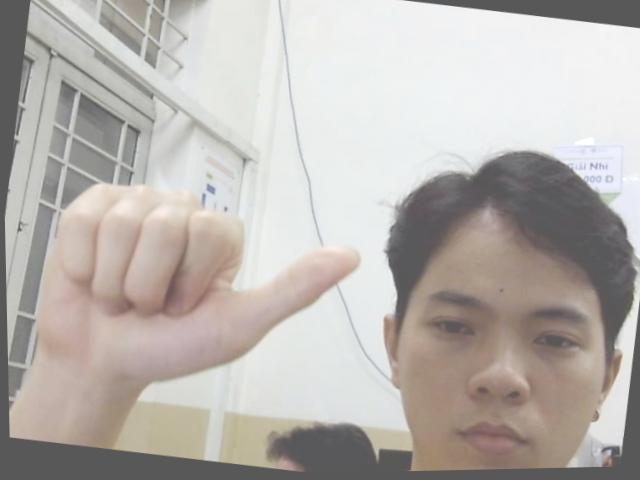A: (10, 163, 378, 404)
